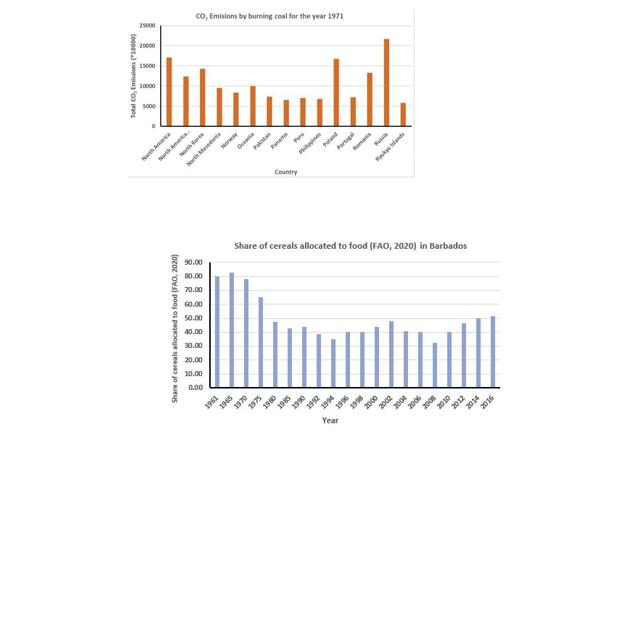Graph: (165, 235, 506, 429), (128, 9, 415, 178)
